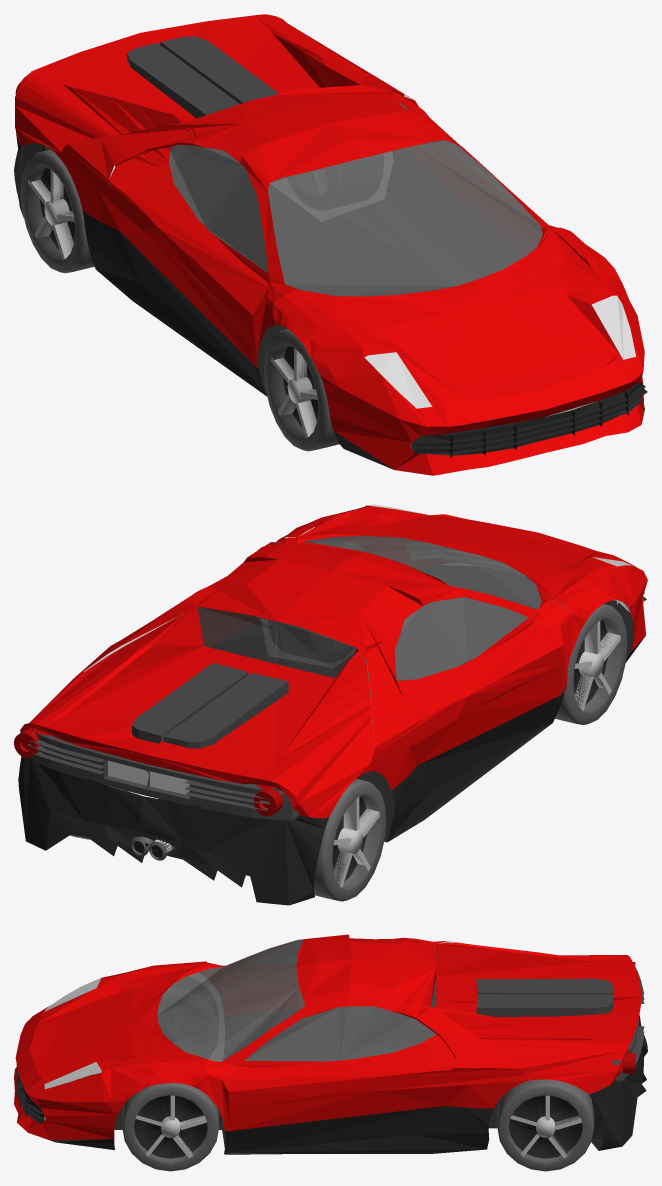
3 views of the same model, one above another, from view 1: azimuth 30°, elevation 25°; view 2: azimuth 150°, elevation 25°; view 3: azimuth 270°, elevation 25° (orthographic). The views are drawn at different scales.
Parts seen in each view (by area): view 1: carbody, rrf, frf; view 2: carbody, rrf, frf; view 3: carbody, rlf, flf.
Part boxes in pixels (left/top/right/bottom): carbody: left=14, top=14, right=647, bottom=475; rrf: left=20, top=149, right=94, bottom=273; frf: left=263, top=329, right=339, bottom=451; carbody: left=14, top=504, right=647, bottom=905; rrf: left=314, top=778, right=386, bottom=901; frf: left=552, top=600, right=627, bottom=724; carbody: left=14, top=934, right=647, bottom=1154; rlf: left=497, top=1079, right=594, bottom=1171; flf: left=122, top=1083, right=218, bottom=1171.
Size of the model in its own units: 4.33 by 2.68 by 9.91.
